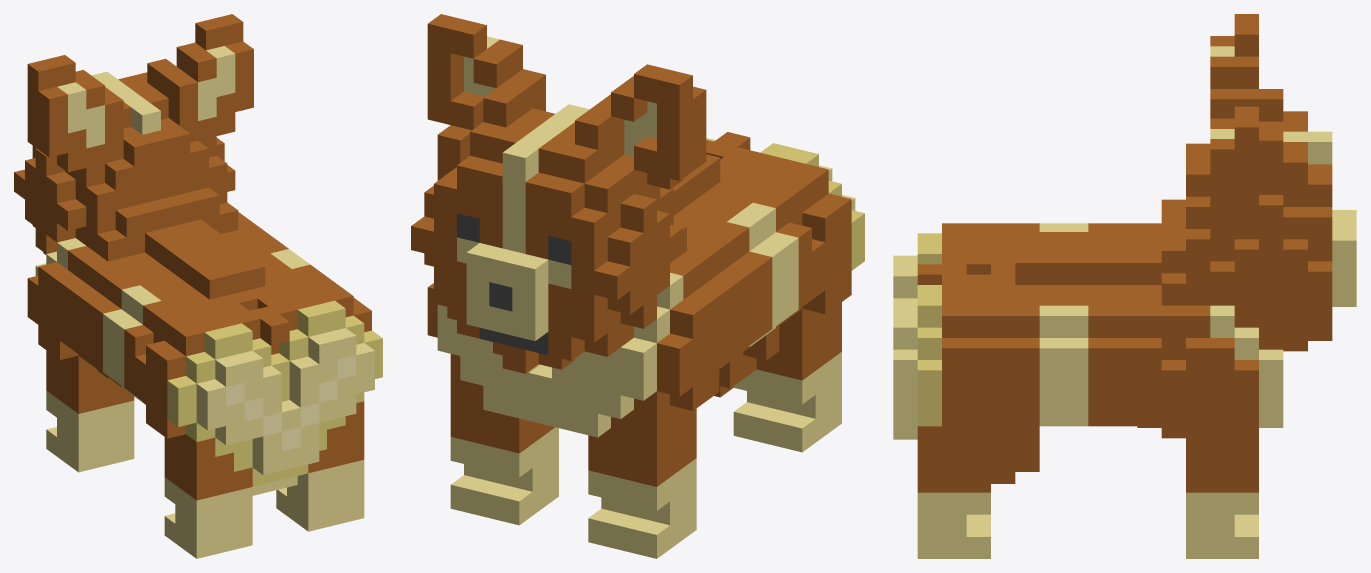
The model's file is corgi.obj.
3 views of the same model, side by side, from view 1: azimuth 30°, elevation 25°; view 2: azimuth 150°, elevation 25°; view 3: azimuth 270°, elevation 25° (orthographic). The views are drawn at different scales.
Parts seen in each view (by area): view 1: corgi; view 2: corgi; view 3: corgi.
Boxes of the visible parts, x1,y1,x2,y2 form: corgi: (14, 14, 382, 558); corgi: (411, 14, 864, 558); corgi: (893, 14, 1356, 558).
Bounding box in the file's own units: 11 × 20 × 19.
1 material, 1 textured.
